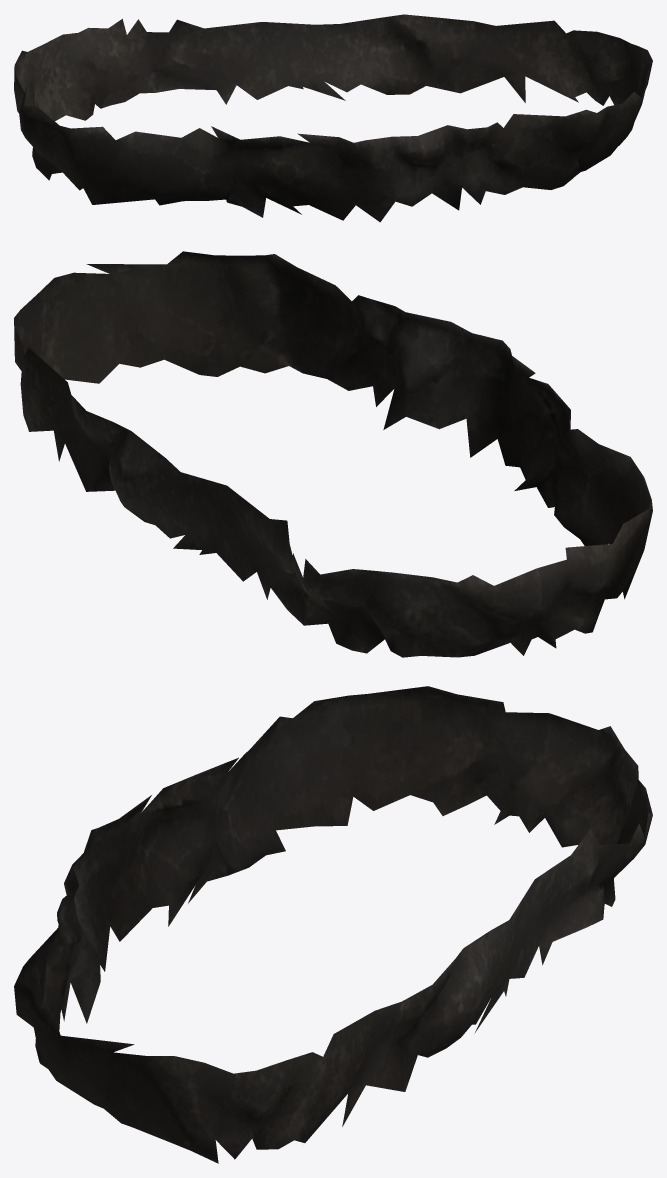
The model's file is platform5collider2.fbx.
The picture shows the model from 3 angles, top to bottom: view 1: azimuth 30°, elevation 25°; view 2: azimuth 150°, elevation 25°; view 3: azimuth 270°, elevation 25°; orthographic projection. The views are drawn at different scales.
Visible parts, largest first — view 1: platform5collider2; view 2: platform5collider2; view 3: platform5collider2.
Part boxes in pixels (x1,y1,x2,y2): platform5collider2: [14, 14, 652, 222]; platform5collider2: [14, 251, 652, 657]; platform5collider2: [14, 686, 652, 1163].
Size of the model in its own units: 4614 by 780 by 3383.
